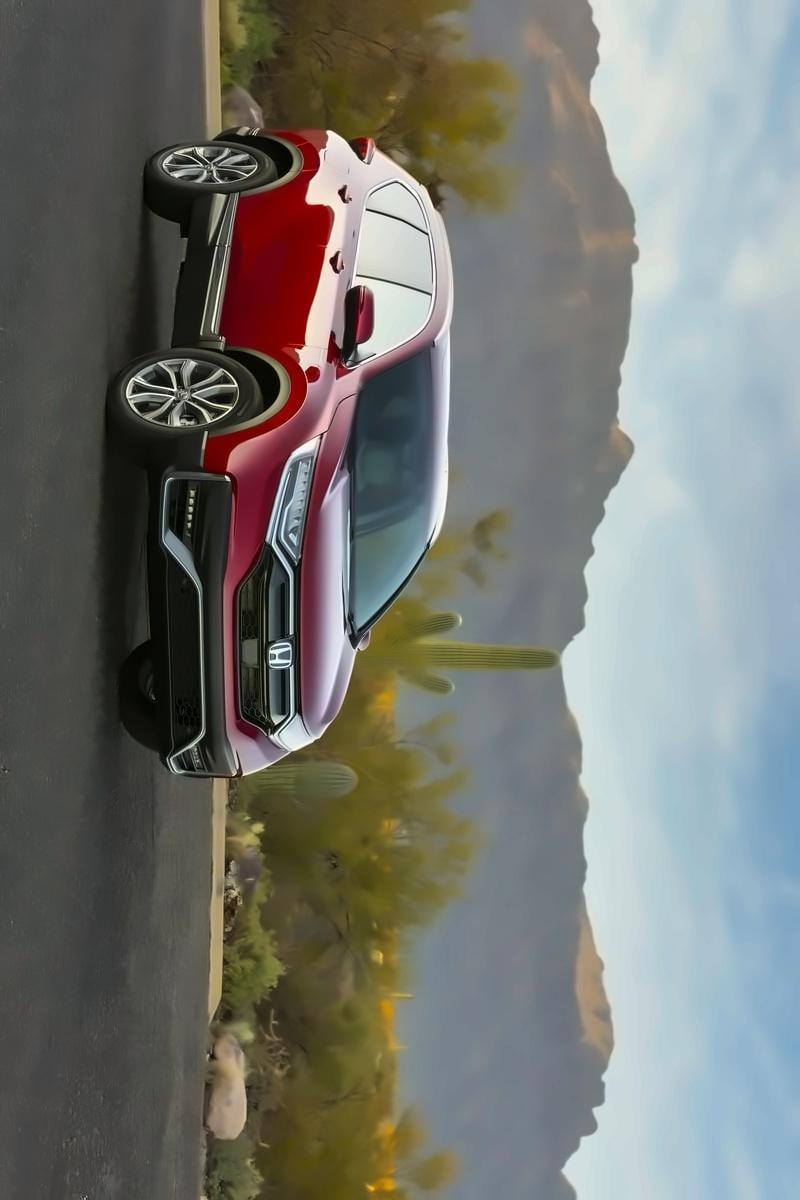Car hood: (291, 389, 359, 752)
Driver-s door - -F-R-: (215, 240, 447, 344)
Fender - -F-R-: (214, 345, 370, 449)
Fender - -R-R-: (279, 136, 390, 178)
Front bumper: (139, 415, 289, 794)
Headlight - -L-: (263, 704, 318, 761)
Headlight - -R-: (259, 426, 332, 575)
Passenger-s door - -R-R-: (226, 171, 446, 242)
Rear bumper: (201, 108, 337, 150)
Rear light - -R-: (336, 121, 388, 177)
Side bumper - -R-: (180, 185, 245, 362)
Side mirror - -L-: (343, 618, 378, 658)
Side mirror - -R-: (325, 276, 391, 354)
